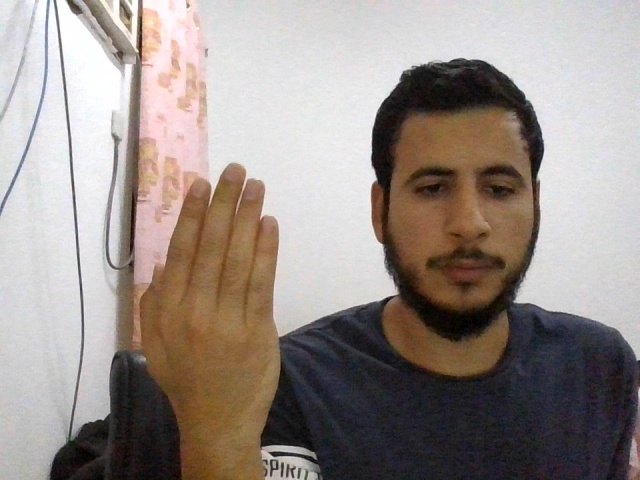Five: (138, 162, 281, 436)
